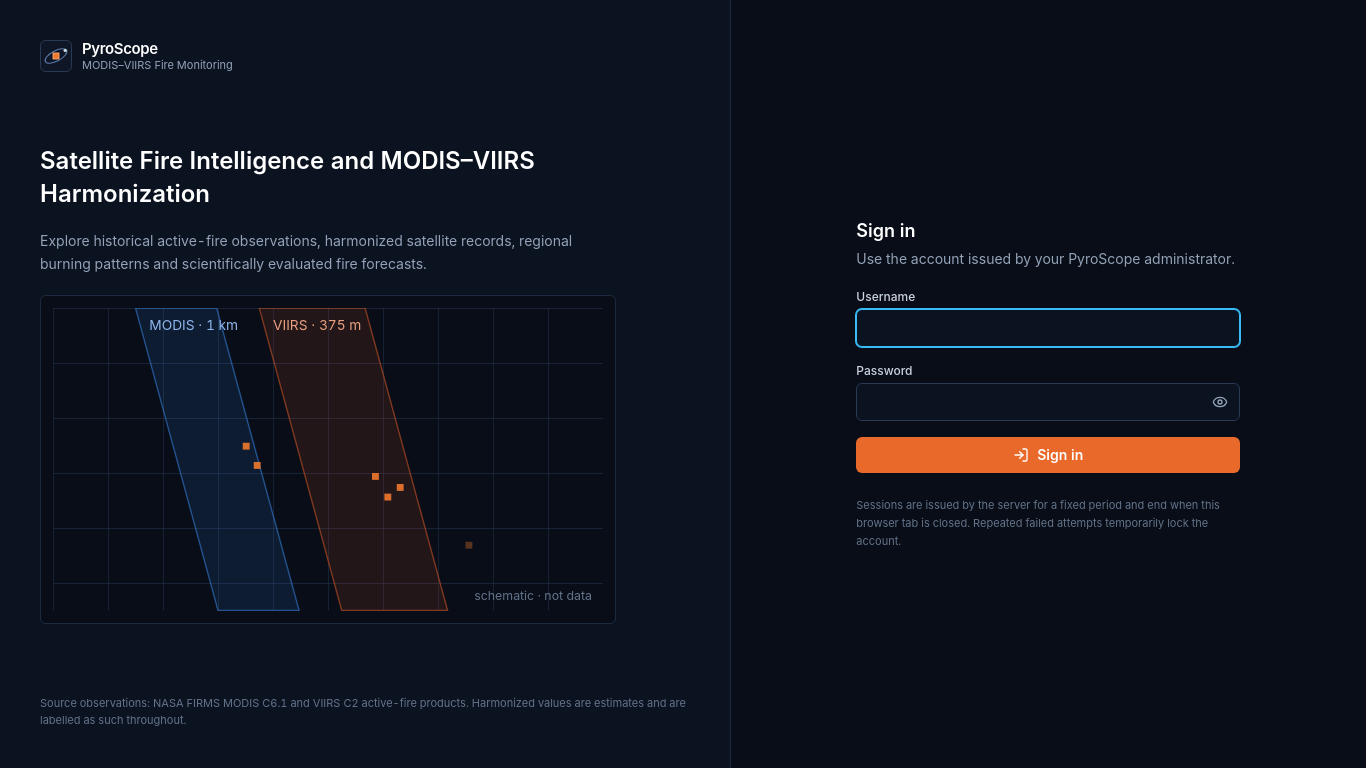
production mode › maps login failures to safe messages (0)
The image size is (1366, 768).
Type "admin" into the field labelled "Username". click: (1048, 328)
box: left=856, top=309, right=1240, bottom=347
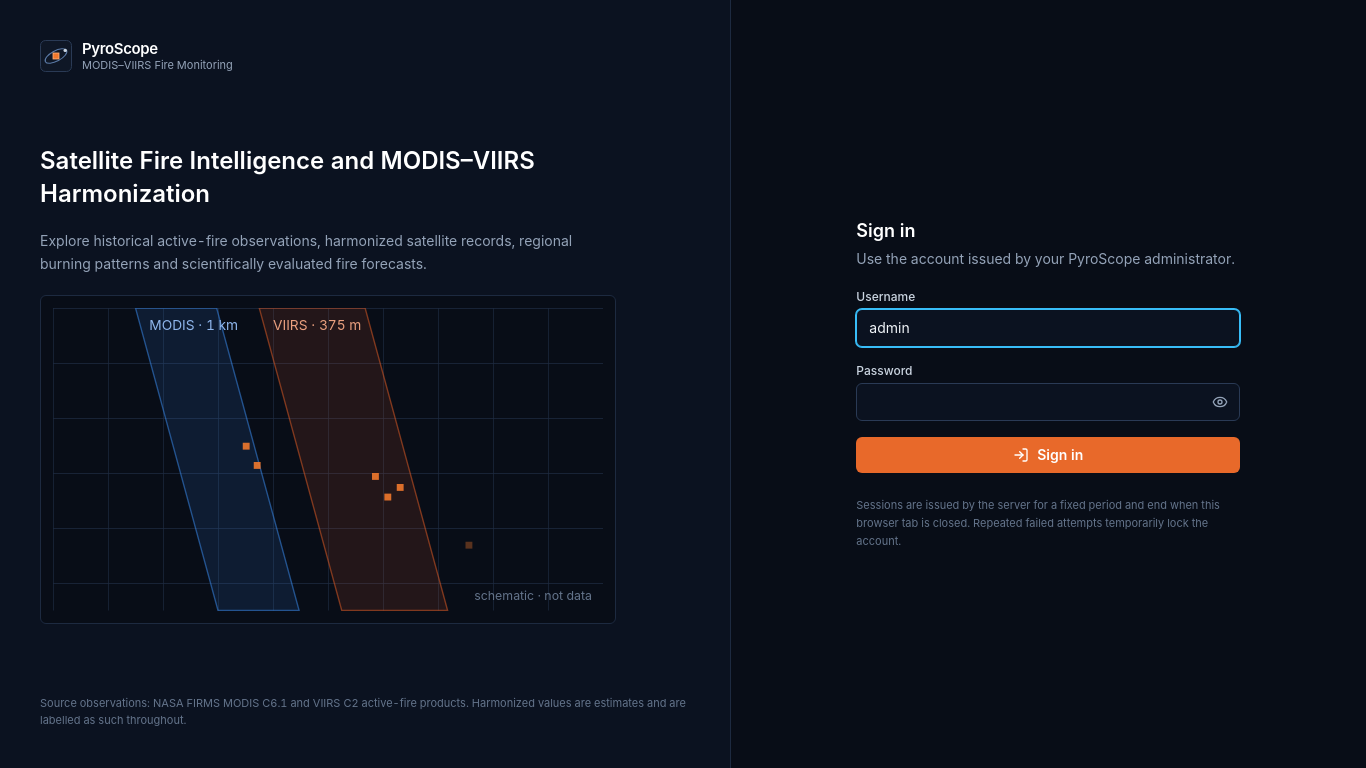
Type "whatever-1" into the password field labelled "Password". click: (1048, 402)
box: left=856, top=383, right=1240, bottom=421
Then press Enter
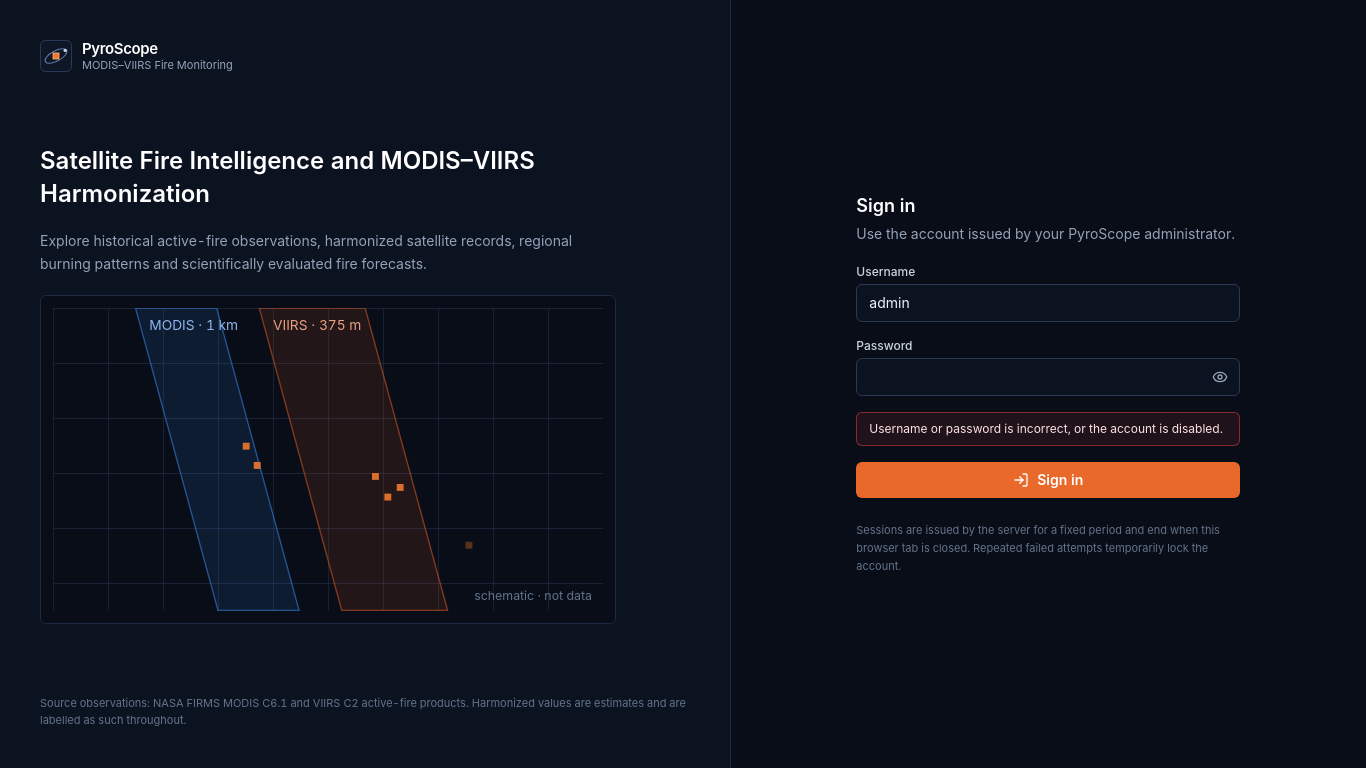
Expected: the message does not show "Traceback", left=856, top=412, right=1240, bottom=446
Now the message shows "incorrect, or the account is disabled", box left=869, top=421, right=1223, bottom=436
